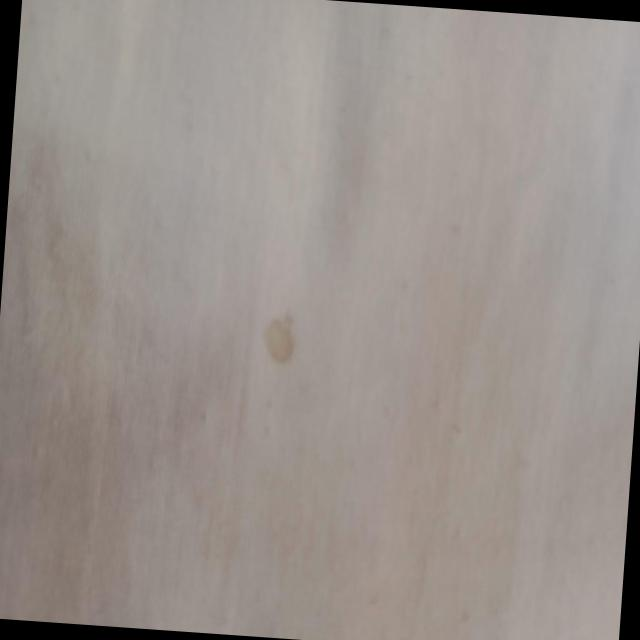stain: (258, 306, 303, 370)
